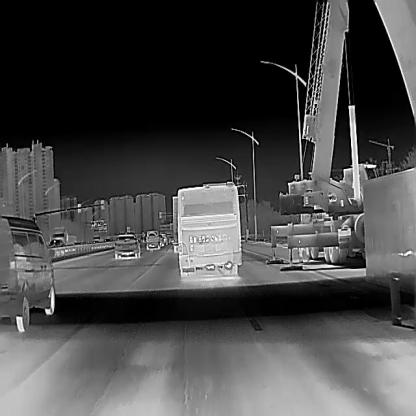bus: (177, 181, 241, 276)
car: (0, 214, 54, 332), (115, 232, 140, 258), (144, 229, 160, 249), (47, 240, 64, 247), (162, 233, 168, 245), (157, 235, 163, 244)
truck: (51, 226, 77, 244), (171, 196, 178, 252)
